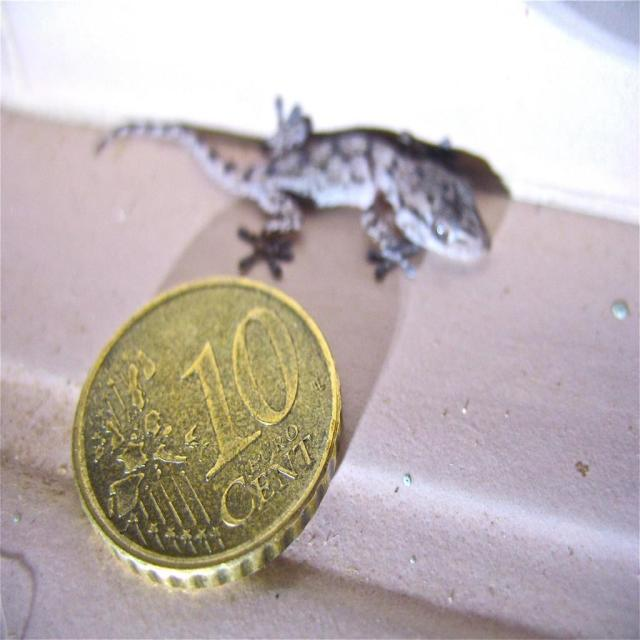Coin: (71, 282, 340, 593)
